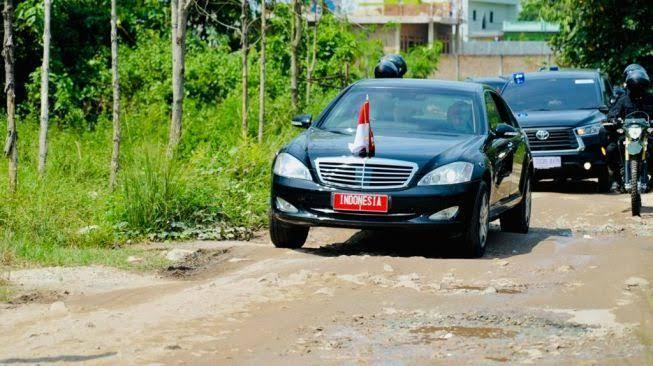Pothole: (308, 300, 530, 366), (5, 285, 102, 366), (411, 258, 542, 304), (136, 223, 206, 308), (540, 210, 653, 249), (524, 307, 608, 345)
